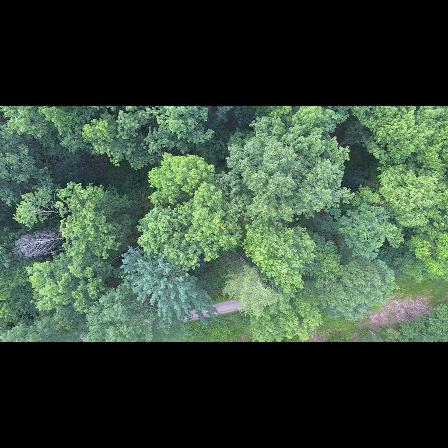Dead: (10, 226, 67, 260)
